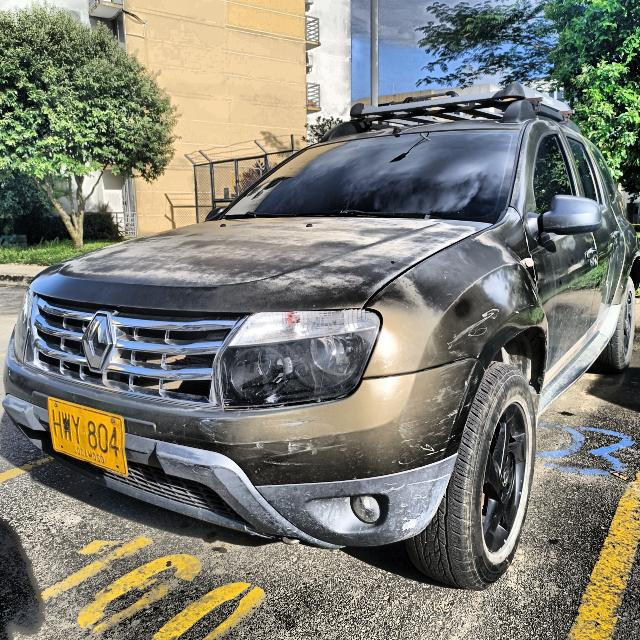plate: (49, 399, 126, 475)
